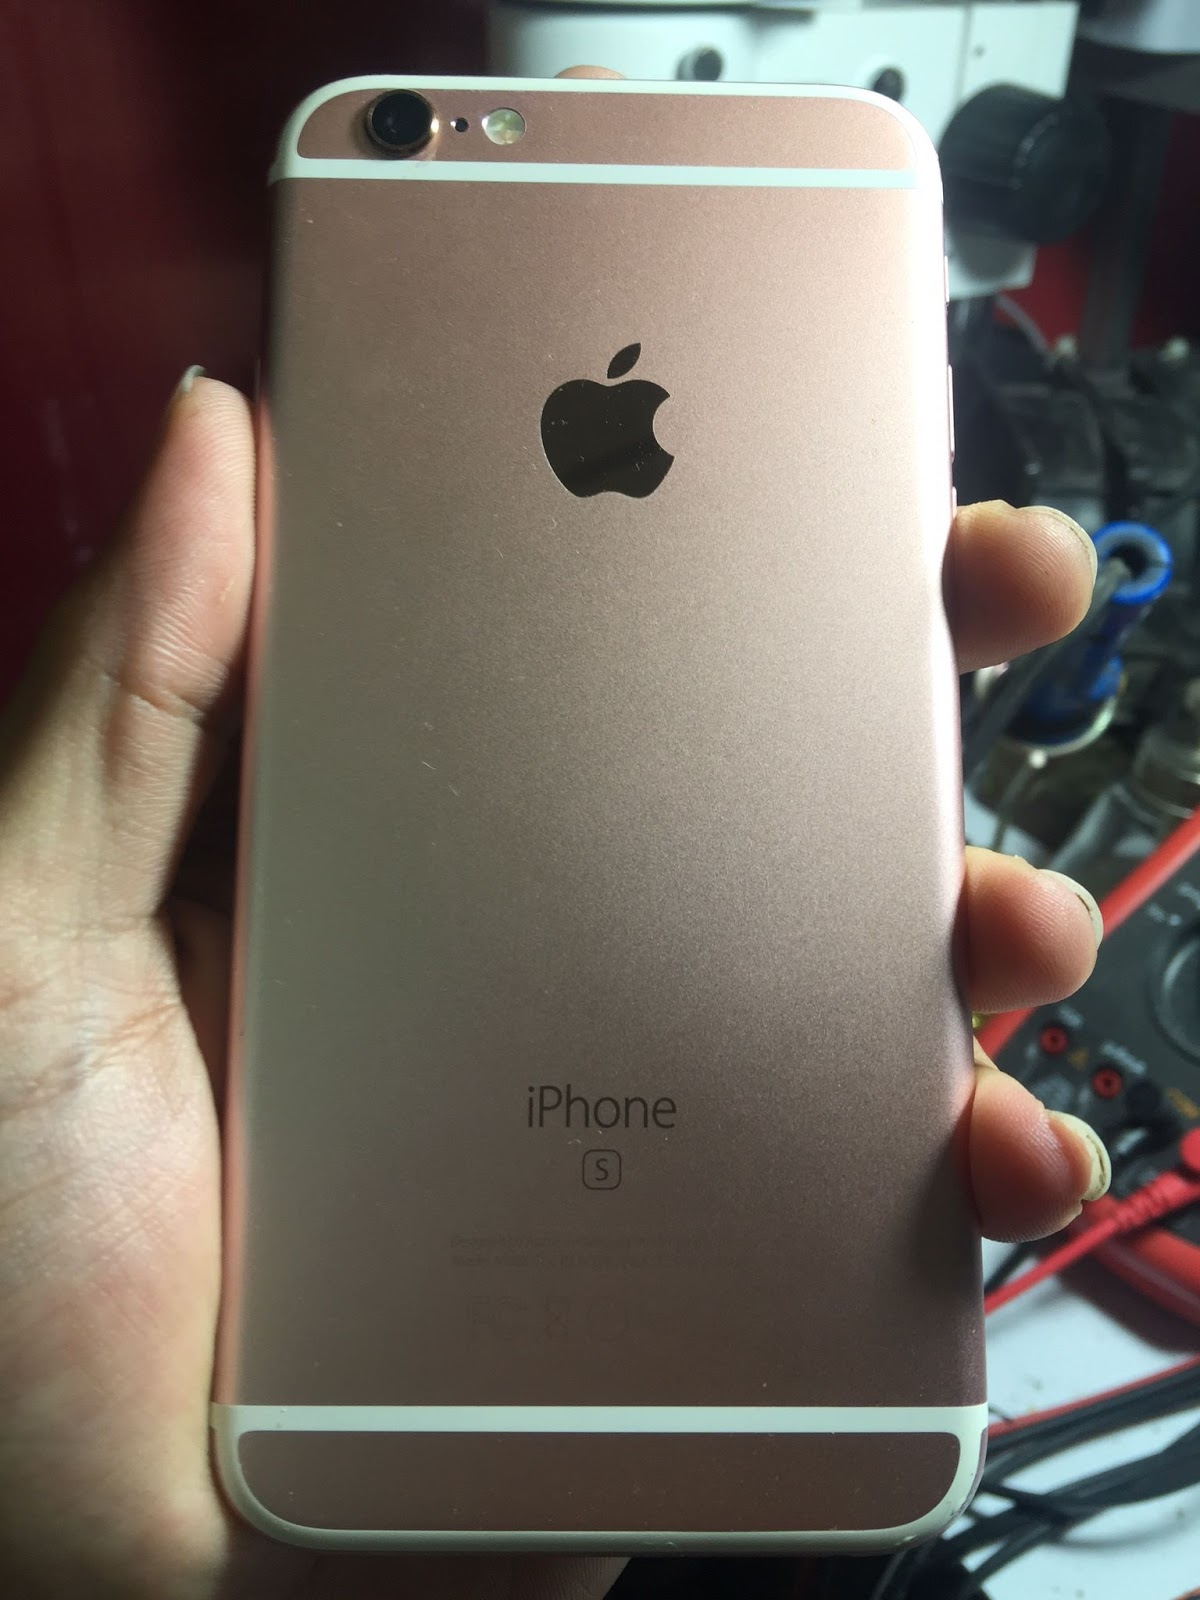phone: (190, 71, 1016, 1571)
